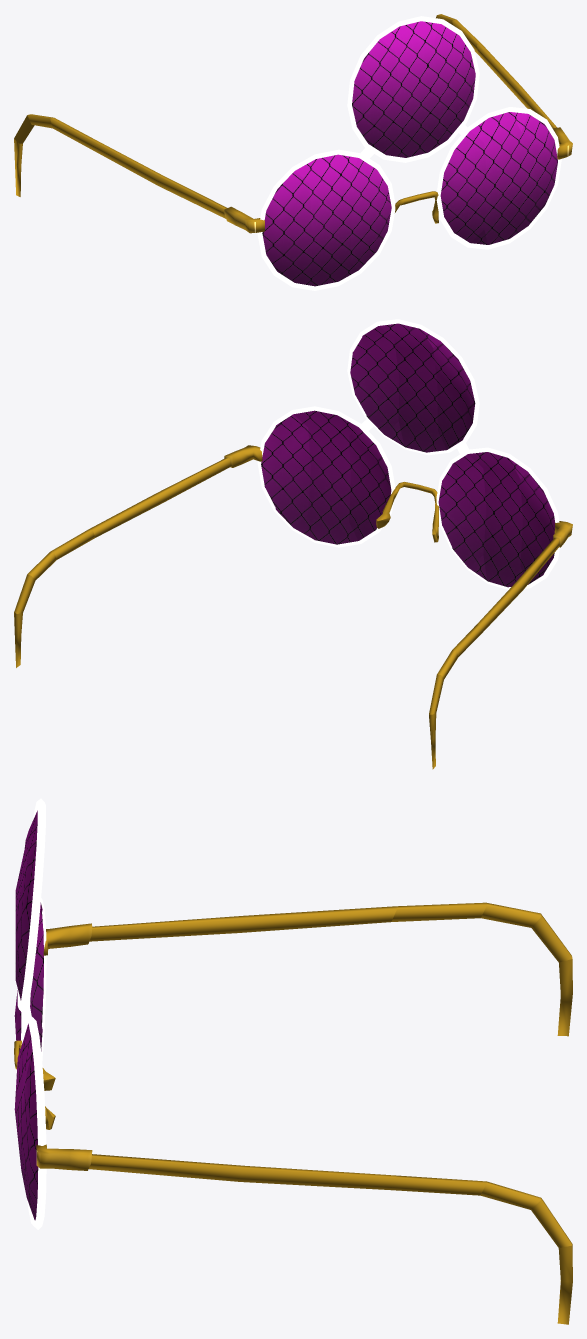
The picture shows the model from 3 angles, top to bottom: view 1: azimuth 30°, elevation 25°; view 2: azimuth 150°, elevation 25°; view 3: azimuth 270°, elevation 25°; orthographic projection. The views are drawn at different scales.
Parts seen in each view (by area): view 1: Wolf3D_Glasses; view 2: Wolf3D_Glasses; view 3: Wolf3D_Glasses.
Boxes of the visible parts, bbox=[...] form: Wolf3D_Glasses: bbox=[14, 14, 572, 290]; Wolf3D_Glasses: bbox=[14, 319, 572, 769]; Wolf3D_Glasses: bbox=[14, 798, 572, 1324].
Size of the model in its own units: 0.1628 by 0.0971 by 0.1326.
Materials: 1 (1 with a texture image).
